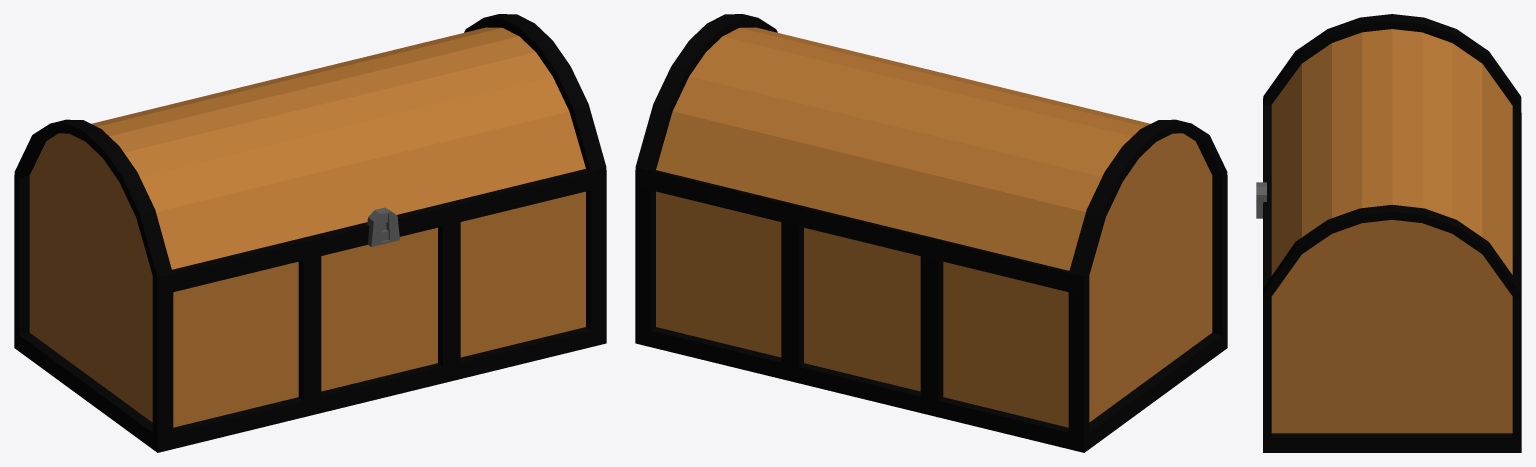
The model's file is Chest_01.fbx.
The picture shows the model from 3 angles, left to right: view 1: azimuth 30°, elevation 25°; view 2: azimuth 150°, elevation 25°; view 3: azimuth 270°, elevation 25°; orthographic projection. The views are drawn at different scales.
Visible parts, largest first — view 1: Chest_01; view 2: Chest_01; view 3: Chest_01.
Boxes of the visible parts, bbox=[...] form: Chest_01: bbox=[14, 14, 606, 452]; Chest_01: bbox=[635, 14, 1227, 452]; Chest_01: bbox=[1256, 14, 1521, 452].
Size of the model in its own units: 104 by 59.21 by 58.94.
